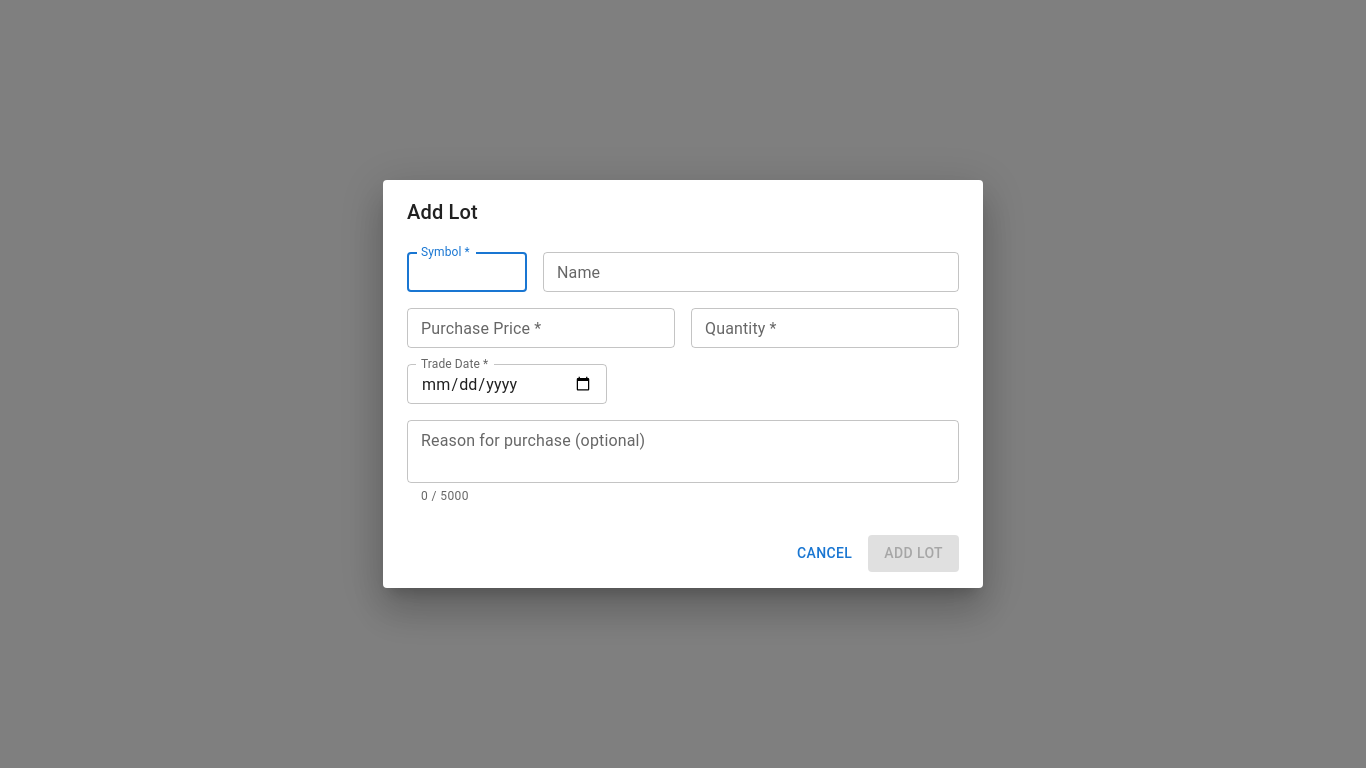
Test case: AddLotDialog › looks up the symbol on blur and fills in the name
The image size is (1366, 768).
Type "aapl" into the field labelled "Symbol *".
click(467, 272); type("aapl")  # box [407,252,527,292]
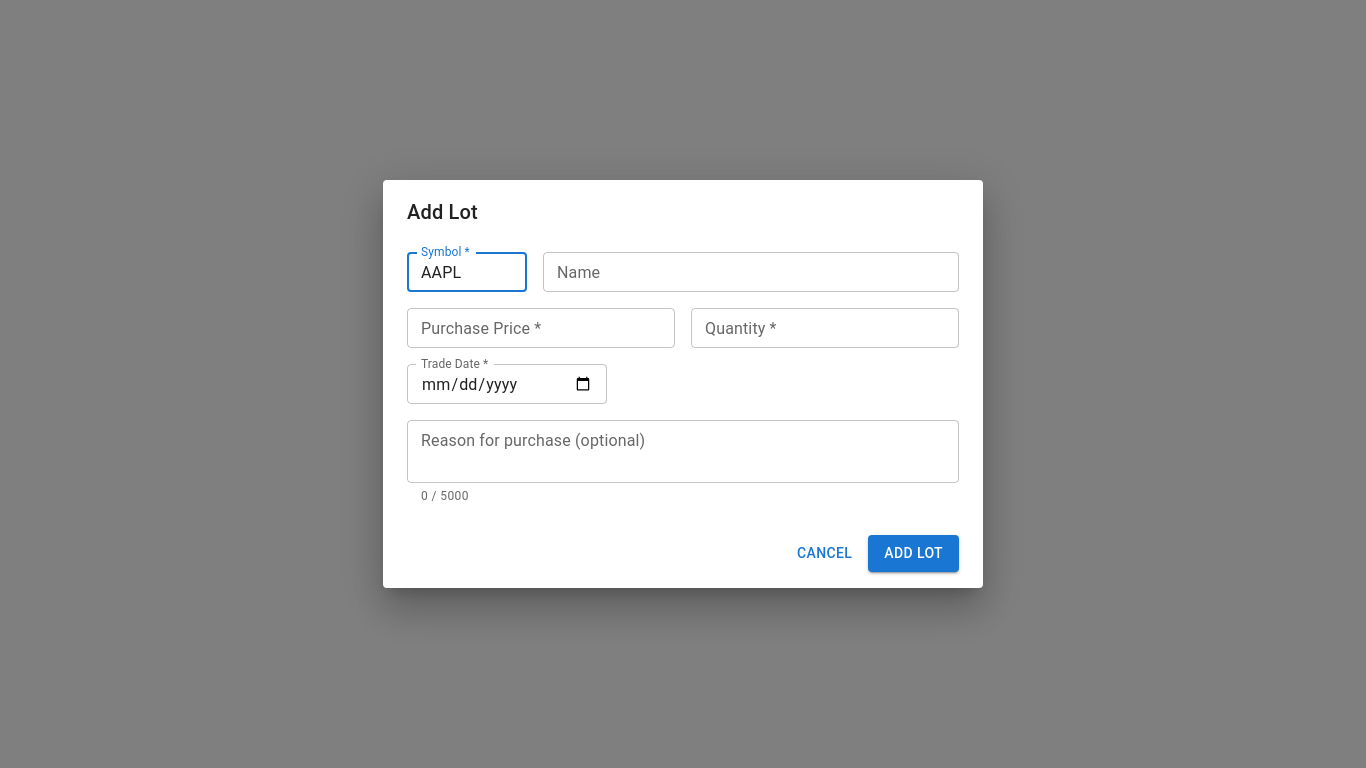
Leave the field labelled "Symbol *", box [407,252,527,292]
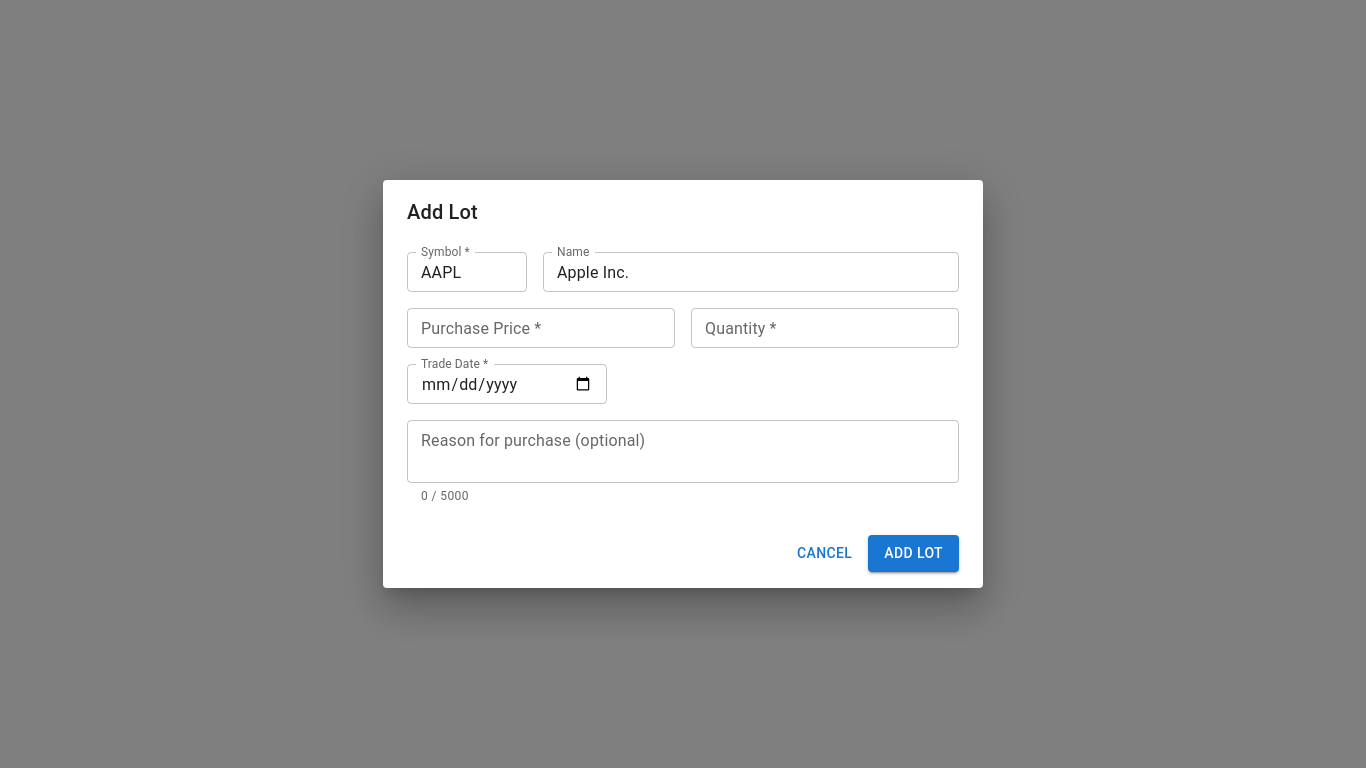
Expected: the field labelled "Name" holds "Apple Inc.", [543,252,959,292]
